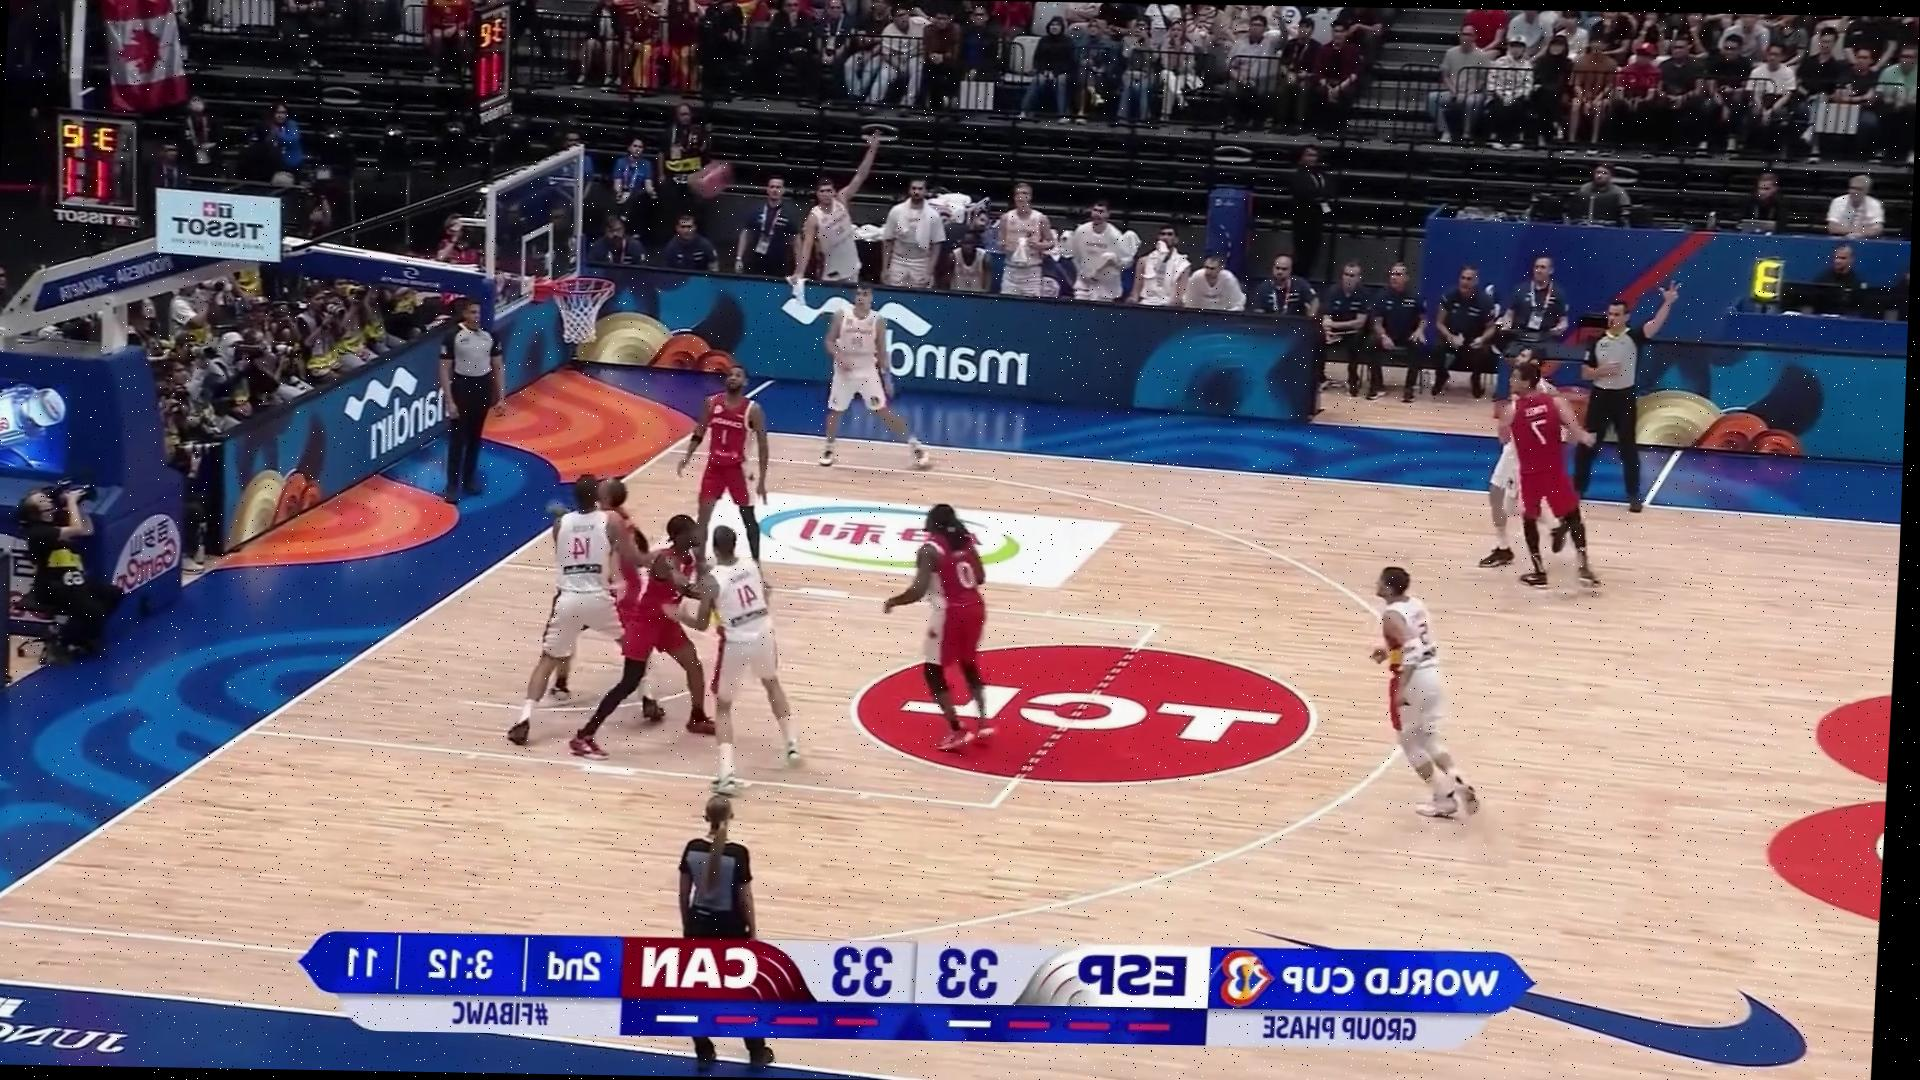no_foul: (1463, 333, 1617, 585)
